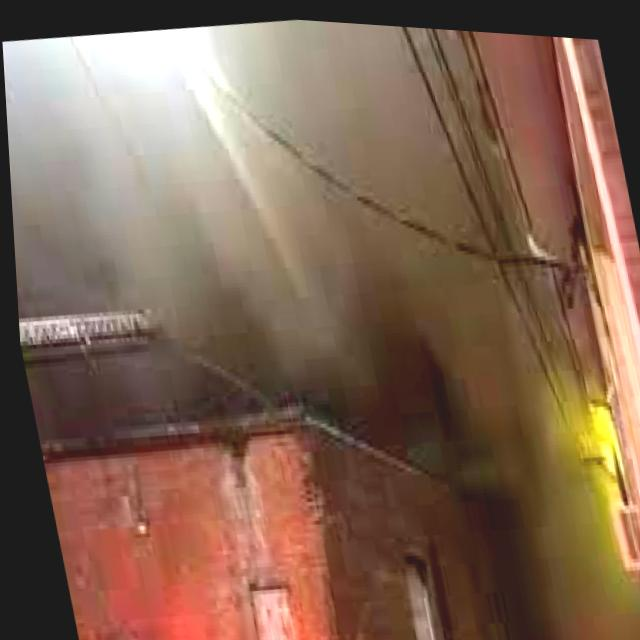no_helmet: (0, 0, 450, 469), (353, 84, 637, 640)
